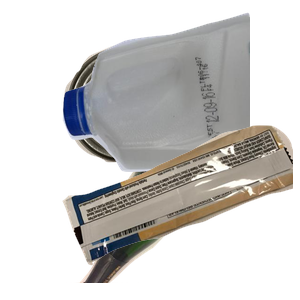glass: (66, 120, 279, 300)
metal: (62, 43, 232, 198)
plastic: (60, 10, 300, 175)
trash: (60, 123, 300, 300)
